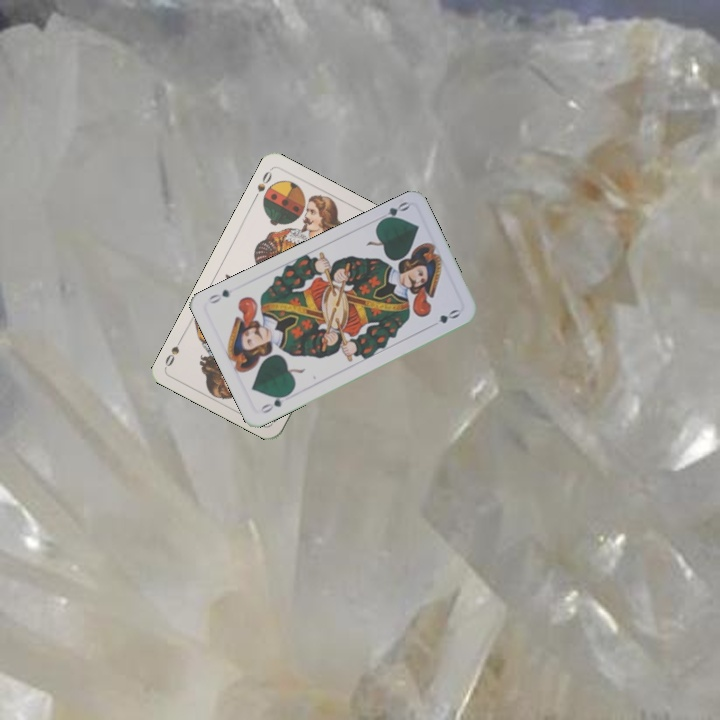GO: (375, 197, 412, 226), (257, 389, 293, 416)
SO: (250, 165, 274, 203)
